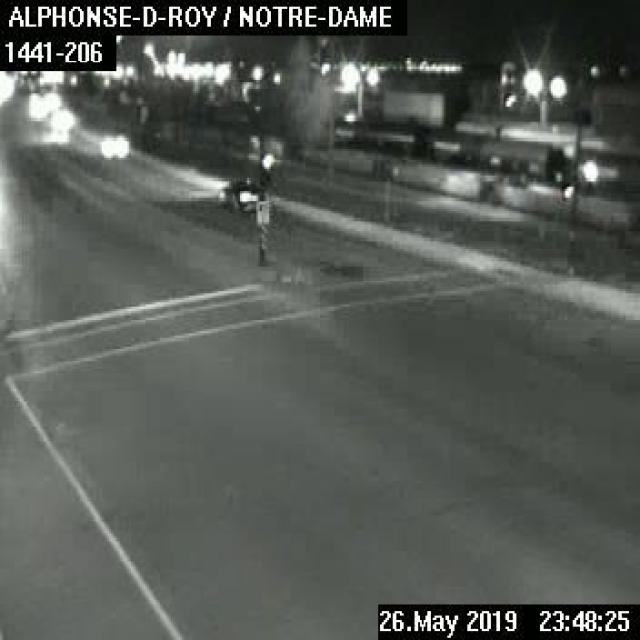vehicle: (215, 176, 267, 216), (91, 129, 125, 155)
